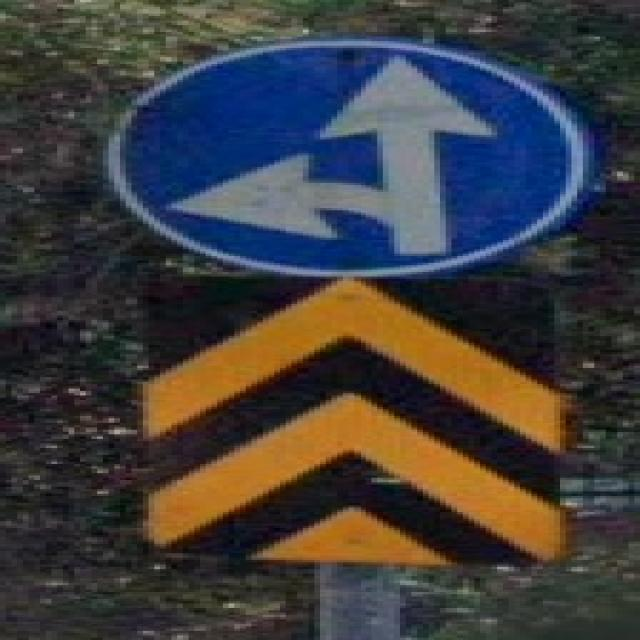Straight or Left: (101, 41, 592, 276)
